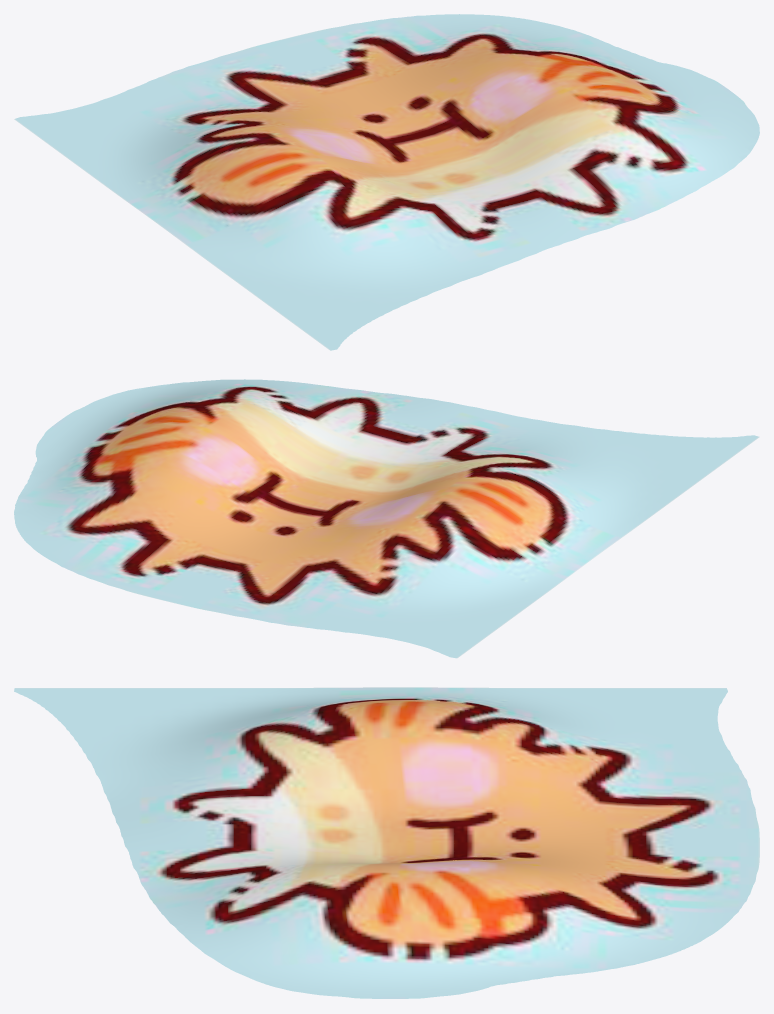
Rendered from 顶点模型测试.fbx.
3 views of the same model, one above another, from view 1: azimuth 30°, elevation 25°; view 2: azimuth 150°, elevation 25°; view 3: azimuth 270°, elevation 25° (orthographic). The views are drawn at different scales.
Parts seen in each view (by area): view 1: 平面.001; view 2: 平面.001; view 3: 平面.001.
Part boxes in pixels (x1,y1,x2,y2): 平面.001: [14, 14, 759, 350]; 平面.001: [14, 379, 759, 658]; 平面.001: [14, 687, 759, 998].
Size of what is drawn, in the model's own units: 190 by 11.66 by 192.
Materials: 1 (1 with a texture image).
